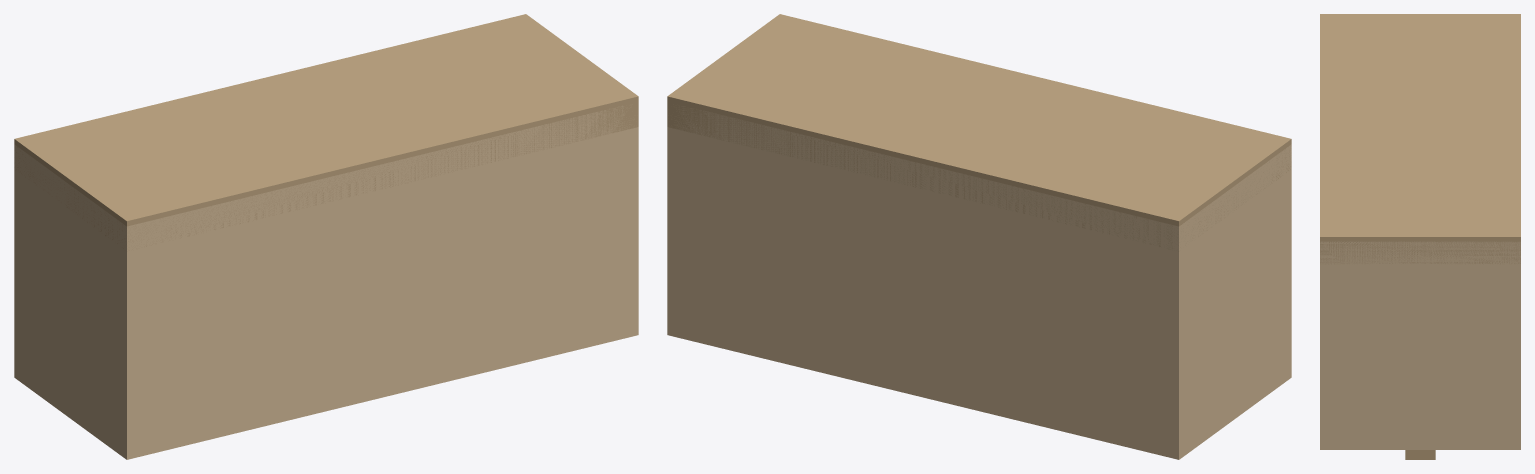
The model's file is rf3-stand-01.glb.
3 views of the same model, side by side, from view 1: azimuth 30°, elevation 25°; view 2: azimuth 150°, elevation 25°; view 3: azimuth 270°, elevation 25° (orthographic). The views are drawn at different scales.
Size of the model in its own units: 1.05 by 0.52 by 0.4.
